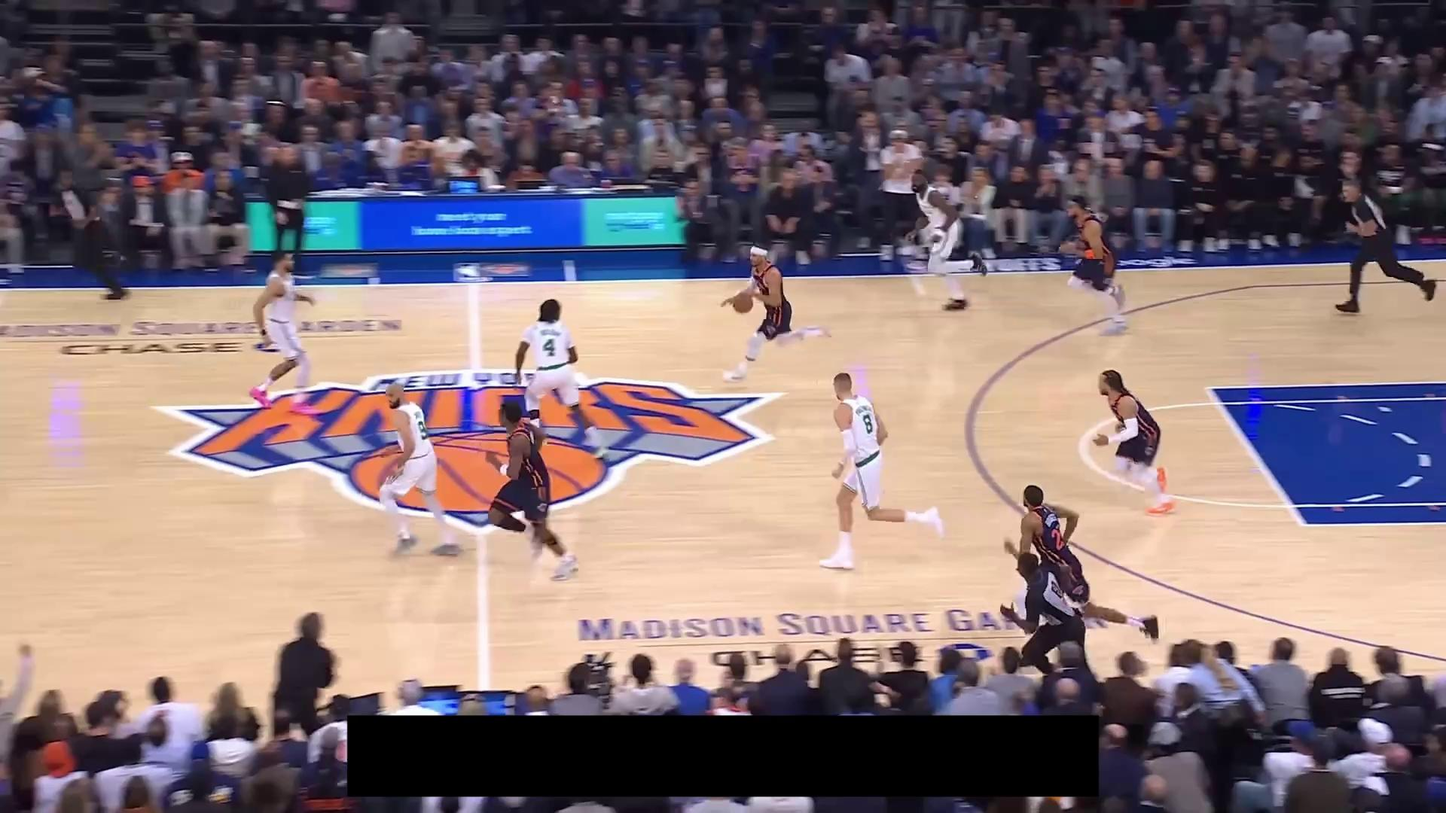ball: (732, 288, 756, 316)
number: (541, 337, 557, 358), (861, 413, 874, 437), (418, 420, 428, 440)
player: (815, 369, 945, 569), (1005, 484, 1164, 643), (485, 402, 579, 581), (514, 296, 610, 456), (378, 381, 464, 558), (244, 246, 316, 416), (1092, 369, 1174, 516), (908, 170, 993, 311), (1058, 192, 1128, 333)
player-in-possession: (720, 245, 832, 390)
referee: (1329, 178, 1439, 313), (997, 551, 1093, 673), (50, 167, 136, 302)
